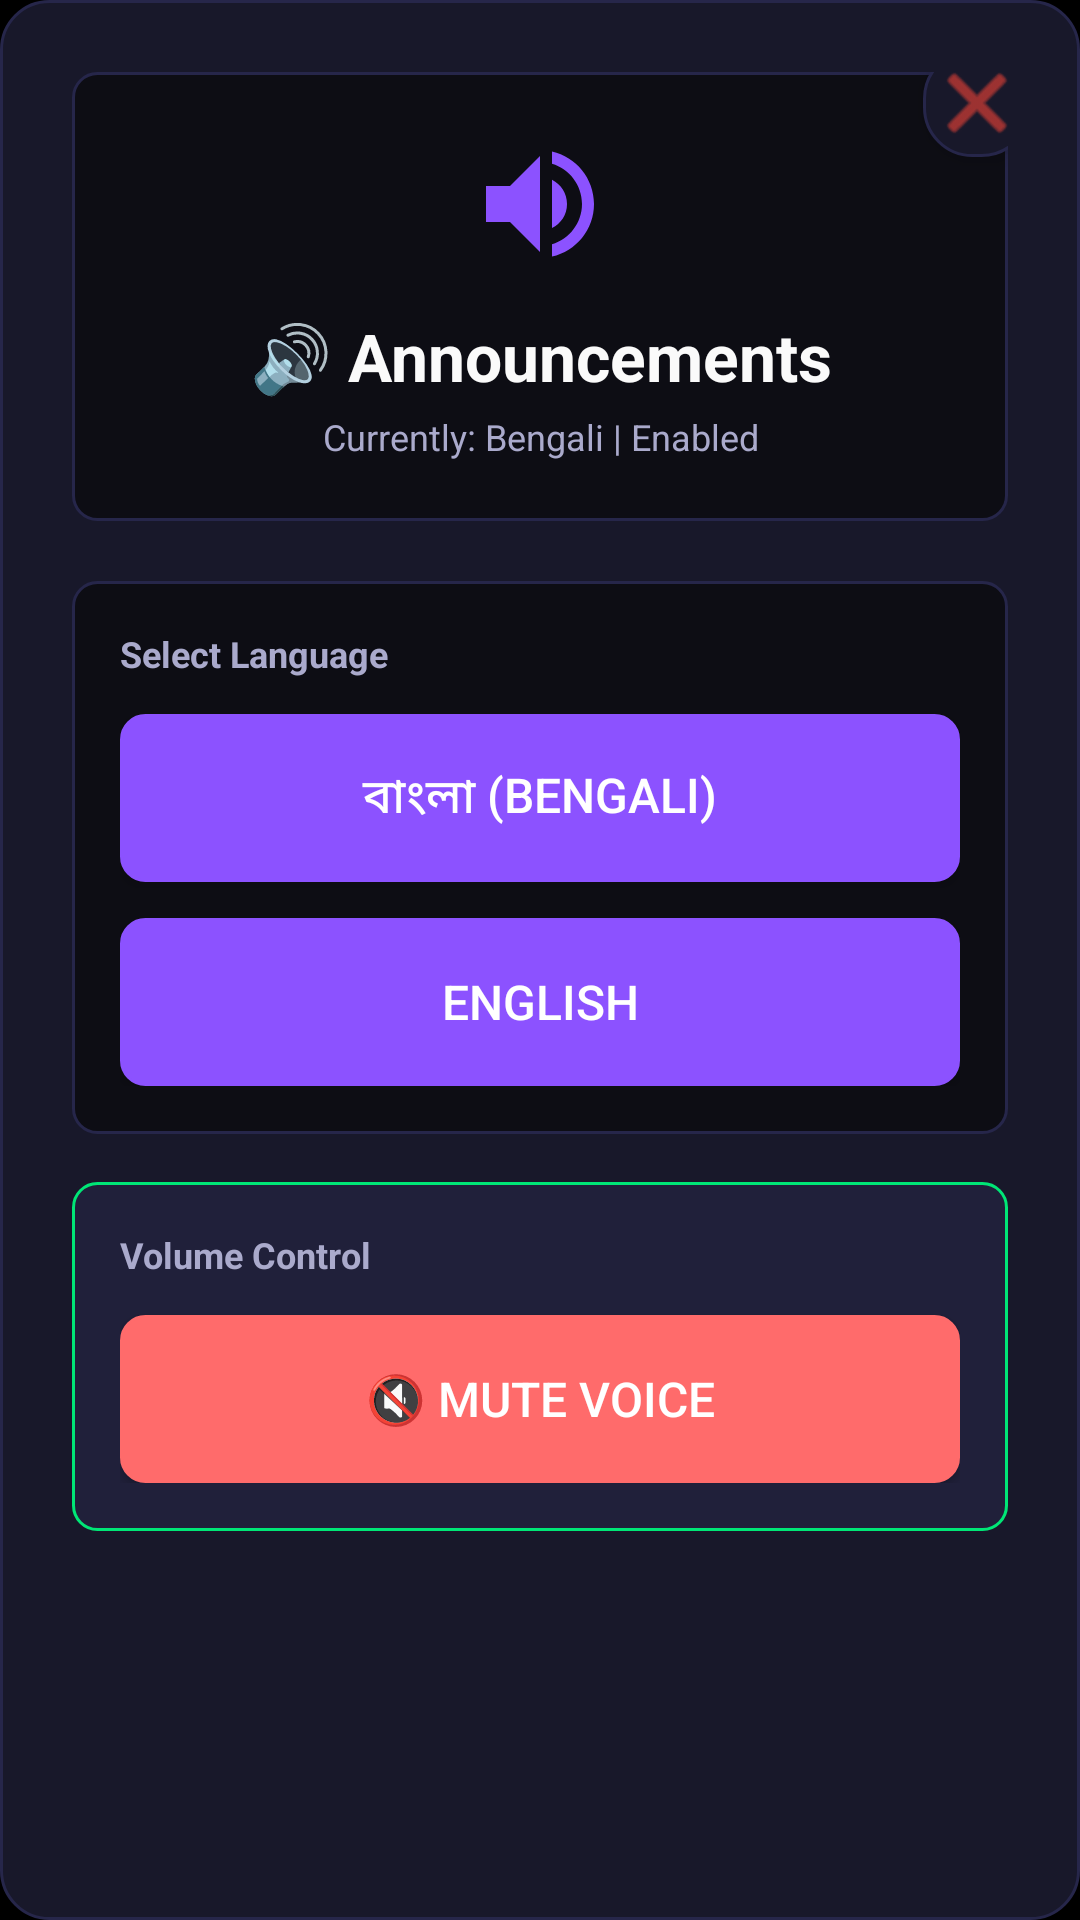

Named icons in this screenshot (1080px×1920px) and their bounding boxes, [left=x1, top=y1, right=x2, bottom=y2]:
Close: [left=947, top=73, right=1007, bottom=133]
voice: [left=486, top=151, right=594, bottom=257]
